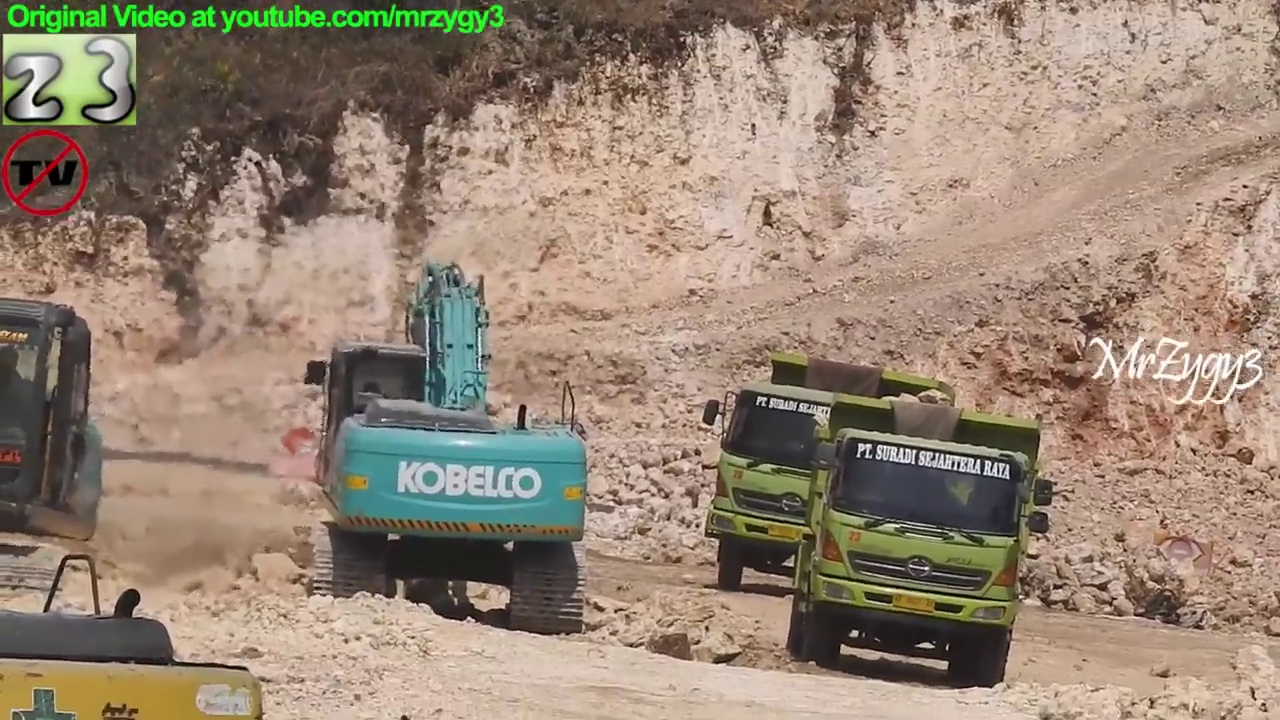excavator: (296, 258, 598, 641), (1, 550, 271, 720), (1, 291, 113, 605)
truck: (786, 390, 1062, 693), (699, 350, 962, 607)
